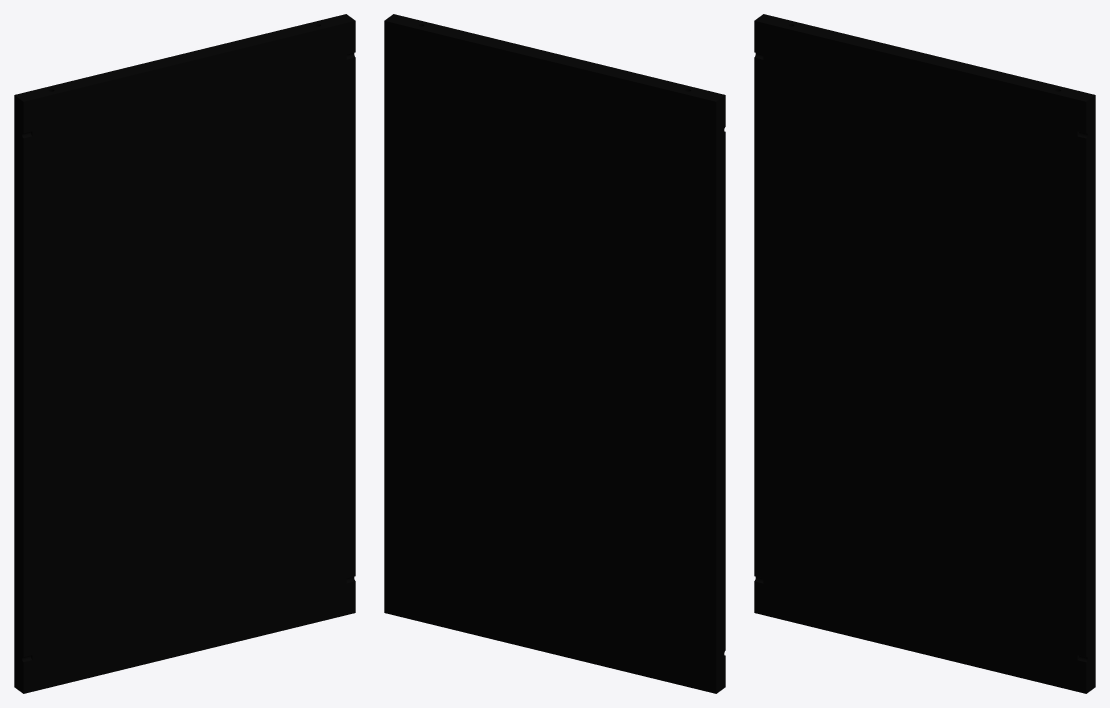
Rendered from Door_Panel_702x412.glb.
The picture shows the model from 3 angles, left to right: view 1: azimuth 30°, elevation 25°; view 2: azimuth 150°, elevation 25°; view 3: azimuth 330°, elevation 25°; orthographic projection.
Parts seen in each view (by area): view 1: Door_Panel_702x412; view 2: Door_Panel_702x412; view 3: Door_Panel_702x412.
Boxes of the visible parts, box(x1,y1,x2,y2) form: Door_Panel_702x412: box(14, 14, 355, 693); Door_Panel_702x412: box(384, 14, 725, 693); Door_Panel_702x412: box(754, 14, 1095, 693).
Bounding box in the file's own units: 0.412 × 0.702 × 0.02.
1 material, 1 textured.
